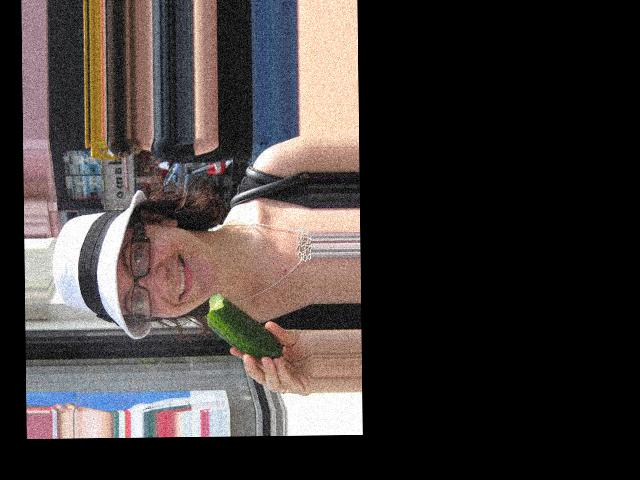cucumber: (206, 294, 283, 361)
